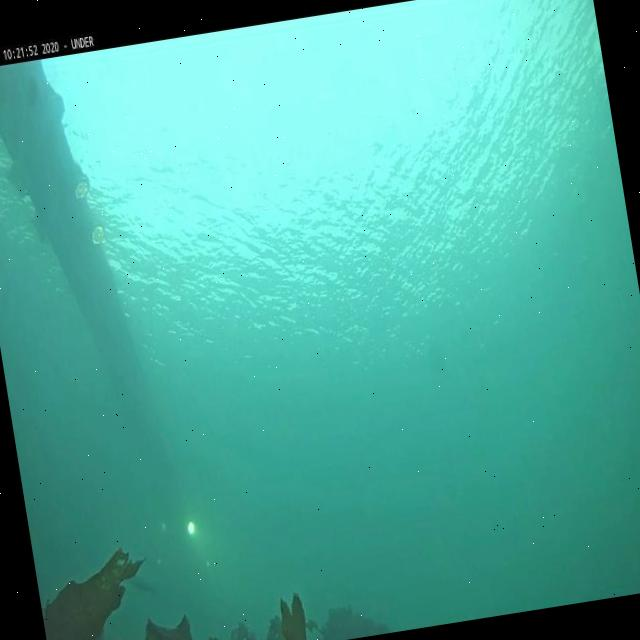fish: (130, 572, 154, 600)
